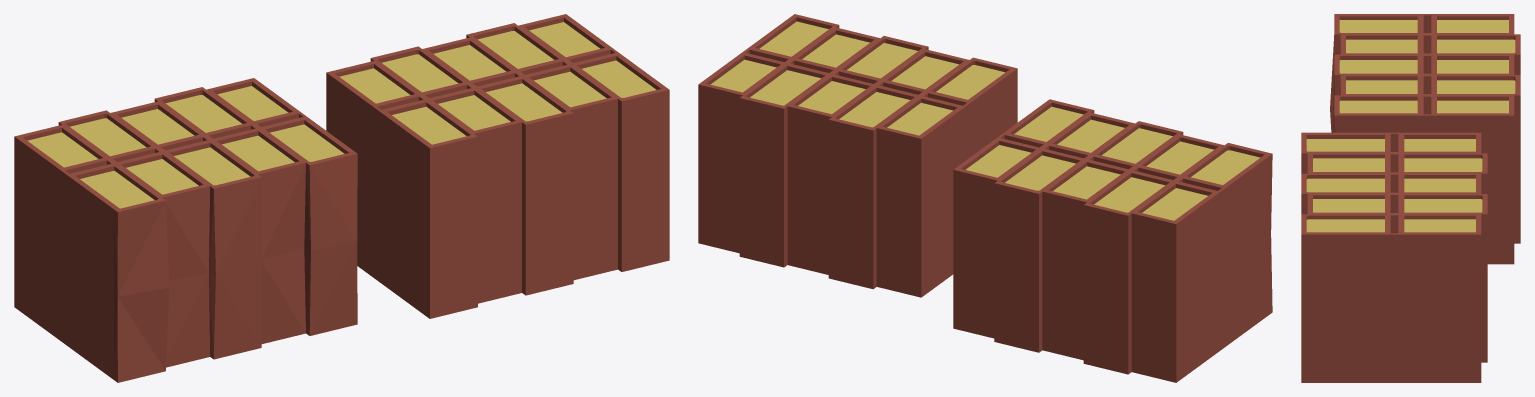
The model's file is bricks_prototyp.fbx.
3 renders of one model, left to right at view 1: azimuth 30°, elevation 25°; view 2: azimuth 150°, elevation 25°; view 3: azimuth 270°, elevation 25°, orthographic. The views are drawn at different scales.
Parts seen in each view (by area): view 1: Cube.003, Cube.001; view 2: Cube.003, Cube.001; view 3: Cube.001, Cube.003.
Part boxes in pixels (x1,y1,x2,y2): Cube.003: [14, 78, 357, 382]; Cube.001: [326, 14, 669, 318]; Cube.003: [953, 99, 1272, 382]; Cube.001: [698, 14, 1017, 297]; Cube.001: [1301, 132, 1487, 382]; Cube.003: [1330, 14, 1520, 264].
Bounding box in the file's own units: 651 × 207 × 267.
